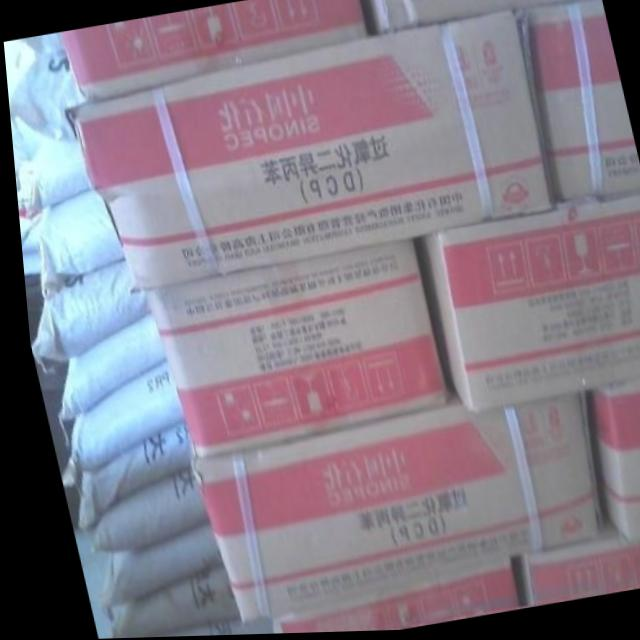box: (59, 10, 552, 295), (181, 374, 593, 625), (141, 243, 441, 460), (410, 198, 640, 415), (61, 0, 368, 99), (527, 0, 640, 207), (261, 559, 509, 635), (502, 516, 640, 610), (580, 379, 640, 547), (362, 0, 590, 35)
